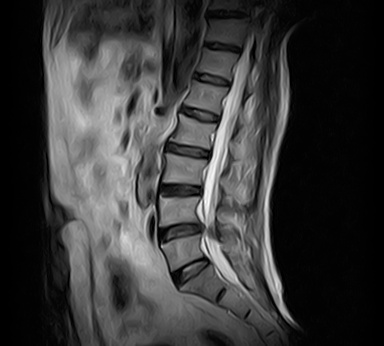L1,v1: (179, 83, 224, 108)
L1-L2,v5: (177, 102, 222, 127)
L2,v2: (169, 121, 214, 146)
L2-L3,v2: (162, 138, 207, 163)
L3,v2: (158, 158, 203, 183)
L3-L4,v2: (157, 177, 202, 202)
L4,v2: (154, 196, 199, 221)
L4-L5,v3: (156, 217, 201, 242)
L5,v2: (160, 237, 205, 262)
L5-S1,v1: (168, 257, 213, 282)
T12-L1,v5: (187, 66, 232, 91)
